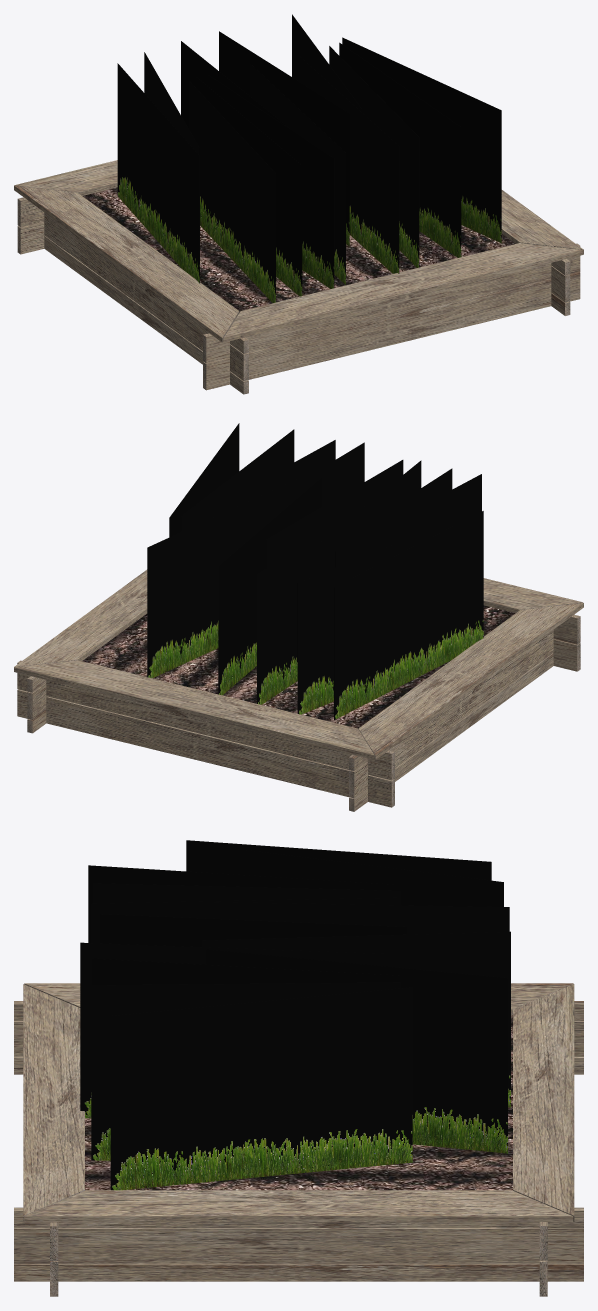
Rendered from planterwheat4.dae.
3 views of the same model, one above another, from view 1: azimuth 30°, elevation 25°; view 2: azimuth 150°, elevation 25°; view 3: azimuth 270°, elevation 25° (orthographic). The views are drawn at different scales.
Visible parts, largest first — view 1: Cube, Cube_003_Cube_008, plank_06_Cube_009, top_3_Cube_021, top_2_Cube_022, dirt, Cube_010_Cube_024, Cube_011_Cube_025, Cube_007_Cube_018, Cube_002_Cube_005, plank_07_Cube_010, Cube_001 (+13 smaller); view 2: Cube, Cube_008_Cube_019, plank_01_Cube_02, top_1_Cube_016, top_2_Cube_022, dirt, Cube_006_Cube_017, Cube_009_Cube_020, Cube_004_Cube_012, plank_02_Cube_03, top_4_Cube_023, plank_04_Cube_006 (+13 smaller); view 3: Cube_010_Cube_024, plank_09_Cube_013, Cube_008_Cube_019, top_4_Cube_023, top_1_Cube_016, top_3_Cube_021, plank_08_Cube_011, dirt, Cube_011_Cube_025, Cube_006_Cube_017, Cube_009_Cube_020, Cube_004_Cube_012 (+10 smaller).
Part boxes in pixels (x1=…): Cube: x1=117, y1=63, x2=199, y2=283; Cube_003_Cube_008: x1=189, y1=81, x2=275, y2=302; plank_06_Cube_009: x1=203, y1=272, x2=580, y2=390; top_3_Cube_021: x1=223, y1=243, x2=583, y2=342; top_2_Cube_022: x1=14, y1=185, x2=239, y2=342; dirt: x1=82, y1=187, x2=515, y2=312; Cube_010_Cube_024: x1=342, y1=37, x2=501, y2=243; Cube_011_Cube_025: x1=339, y1=42, x2=461, y2=257; Cube_007_Cube_018: x1=299, y1=57, x2=399, y2=273; Cube_002_Cube_005: x1=207, y1=75, x2=334, y2=288; plank_07_Cube_010: x1=203, y1=243, x2=580, y2=363; Cube_001: x1=196, y1=77, x2=302, y2=296; Cube: x1=334, y1=511, x2=483, y2=720; Cube_008_Cube_019: x1=147, y1=475, x2=306, y2=678; plank_01_Cube_02: x1=17, y1=689, x2=394, y2=807; top_1_Cube_016: x1=14, y1=660, x2=374, y2=759; top_2_Cube_022: x1=358, y1=603, x2=583, y2=759; dirt: x1=82, y1=605, x2=515, y2=728; Cube_006_Cube_017: x1=218, y1=477, x2=321, y2=695; Cube_009_Cube_020: x1=297, y1=514, x2=467, y2=714; Cube_004_Cube_012: x1=257, y1=491, x2=382, y2=704; plank_02_Cube_03: x1=17, y1=660, x2=394, y2=780; top_4_Cube_023: x1=14, y1=569, x2=147, y2=667; plank_04_Cube_006: x1=349, y1=630, x2=553, y2=798; Cube_010_Cube_024: x1=110, y1=987, x2=412, y2=1190; plank_09_Cube_013: x1=14, y1=1228, x2=583, y2=1263; Cube_008_Cube_019: x1=206, y1=949, x2=507, y2=1153; top_4_Cube_023: x1=24, y1=1190, x2=573, y2=1222; top_1_Cube_016: x1=513, y1=984, x2=574, y2=1221; top_3_Cube_021: x1=23, y1=984, x2=84, y2=1221; plank_08_Cube_011: x1=14, y1=1263, x2=583, y2=1281; dirt: x1=85, y1=1015, x2=512, y2=1190; Cube_011_Cube_025: x1=91, y1=982, x2=400, y2=1160; Cube_006_Cube_017: x1=202, y1=931, x2=510, y2=1107; Cube_009_Cube_020: x1=207, y1=845, x2=503, y2=906; Cube_004_Cube_012: x1=200, y1=902, x2=509, y2=934.
Size of the model in its own units: 3.68 by 1.74 by 3.68.
5 materials, 5 textured.
